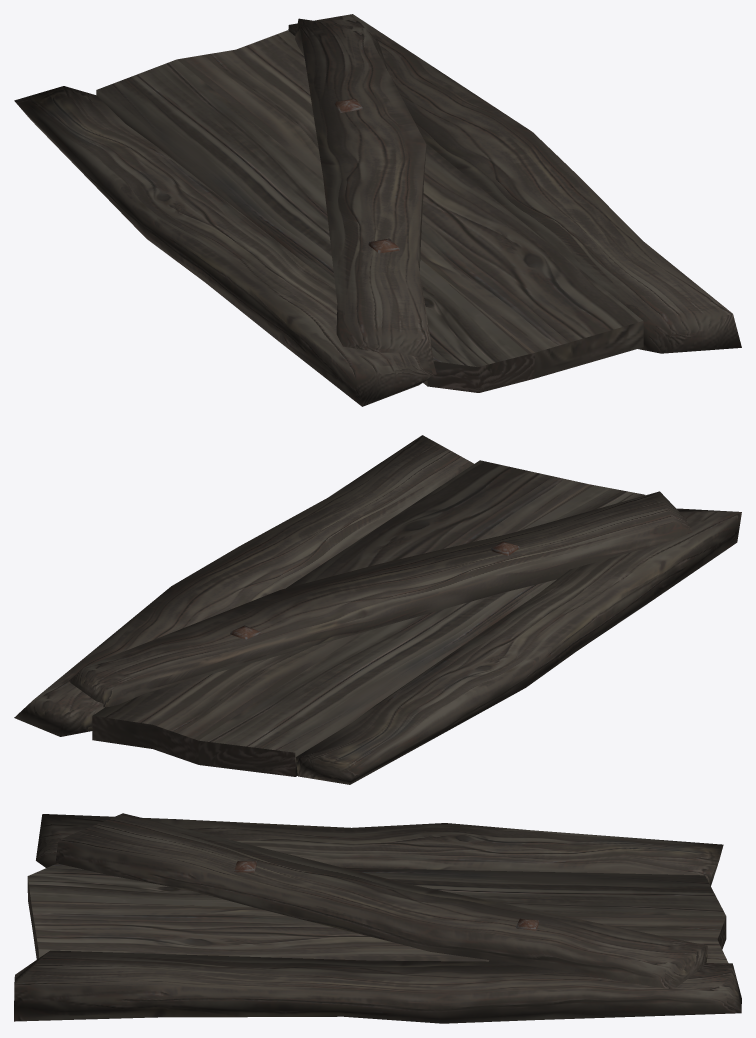
Rendered from Wood_Board.fbx.
3 views of the same model, one above another, from view 1: azimuth 30°, elevation 25°; view 2: azimuth 150°, elevation 25°; view 3: azimuth 270°, elevation 25° (orthographic). The views are drawn at different scales.
Parts seen in each view (by area): view 1: Door; view 2: Door; view 3: Door.
Boxes of the visible parts, box(x1,y1,x2,y2) form: Door: box(14, 14, 741, 406); Door: box(14, 435, 741, 784); Door: box(14, 813, 741, 1023).
Bounding box in the file's own units: 2.22 × 0.3611 × 3.97.
